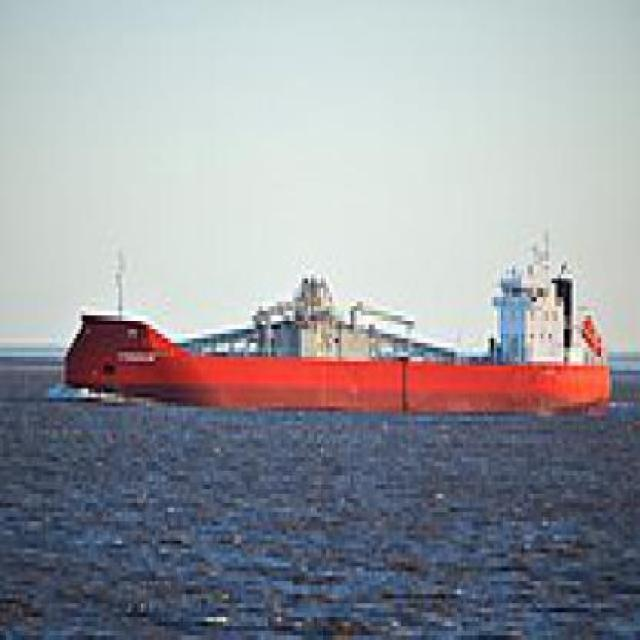container: (56, 202, 630, 436)
